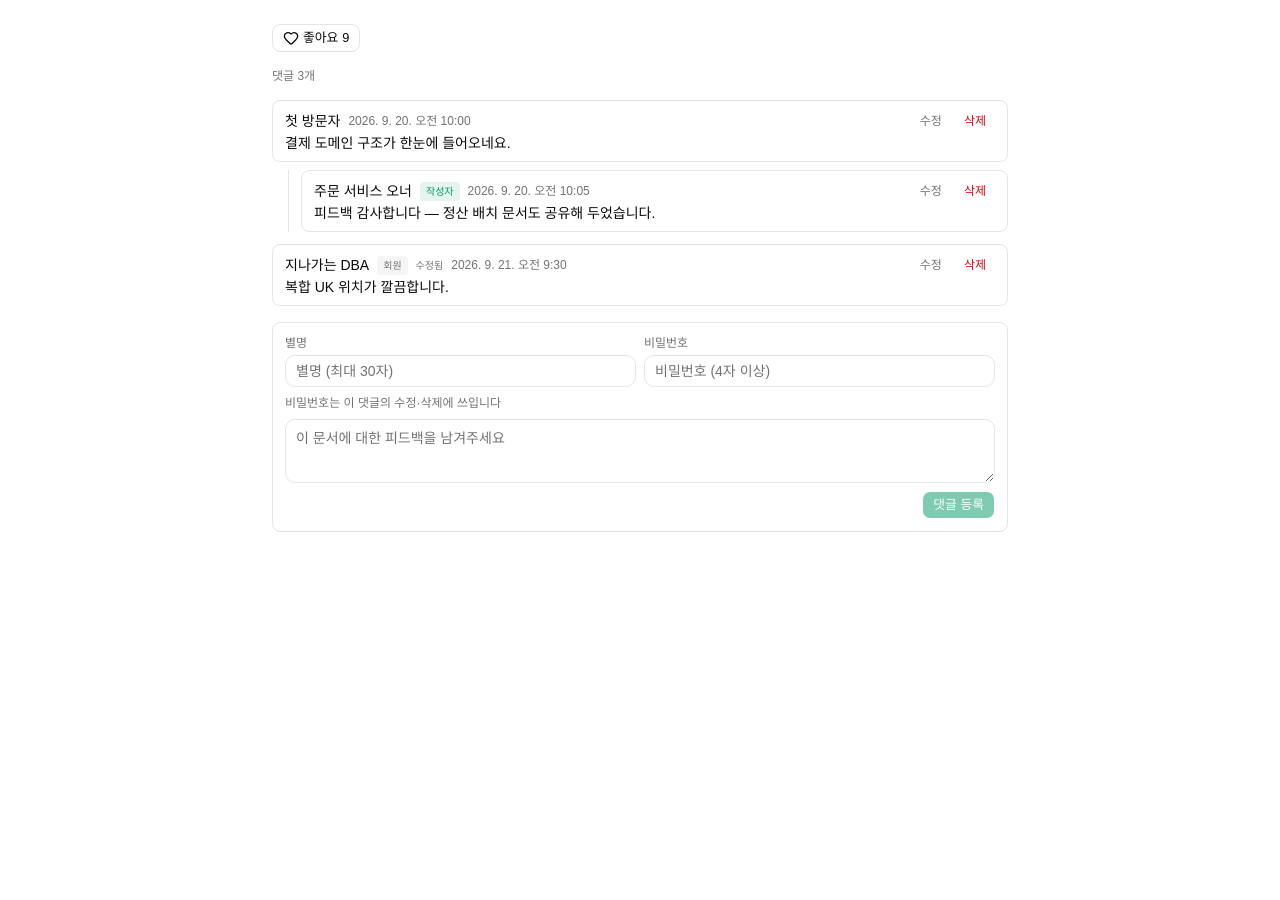
it: ShareFeedbackSection — 댓글 수정·삭제(서버 최종 판정) › toasts forbidden when the edit is rejected (403)
The image size is (1280, 900).
Expected: the list with test id "share-comment-list" is shown, [272,100,1008,306]
Click the button "수정" in the row of "2026. 9. 20. 오전 10:00": [931, 121] box [911,109,951,133]
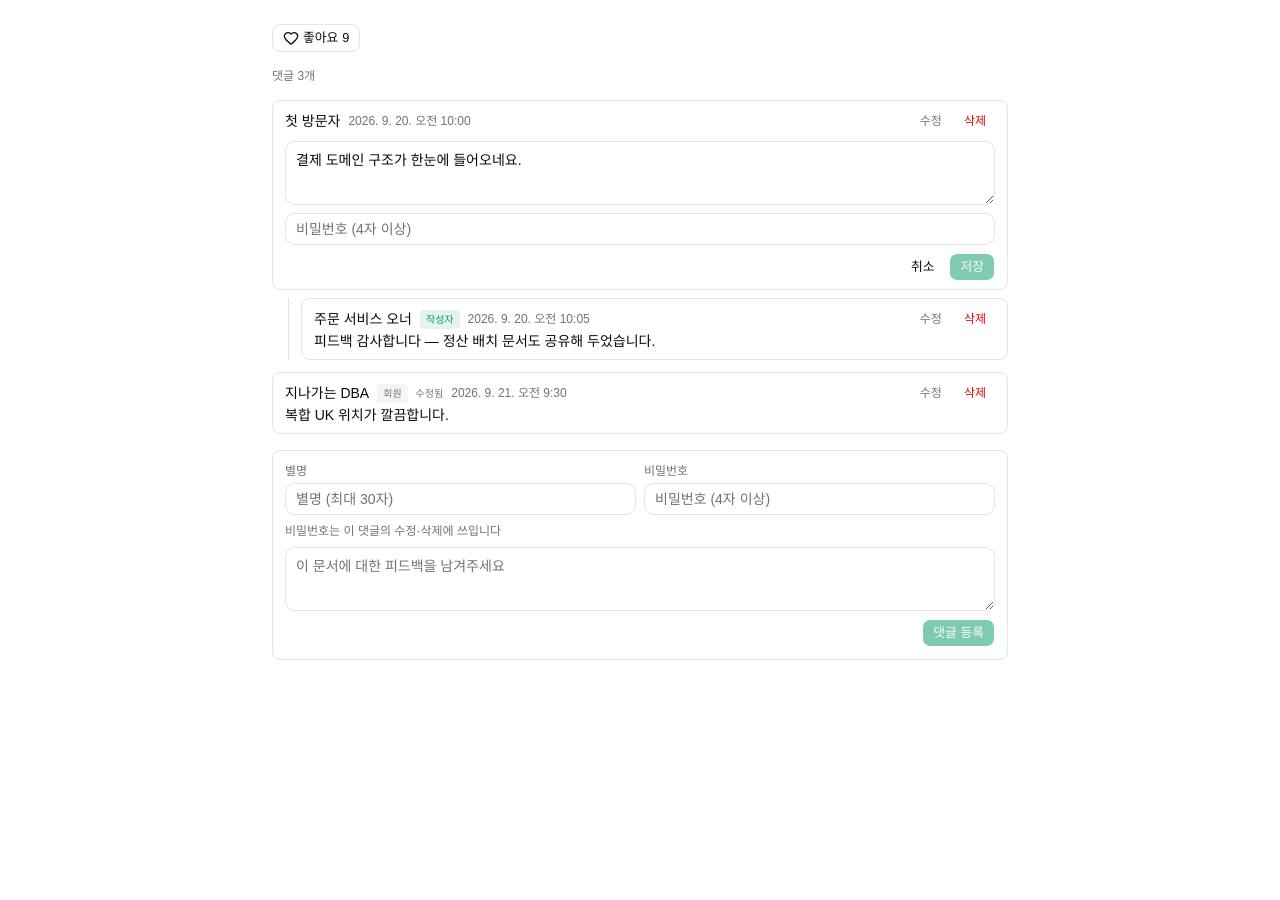
Replace the text in the text box with test id "share-comment-edit-content" with "타인 수정": [640, 173] box [285,141,995,205]
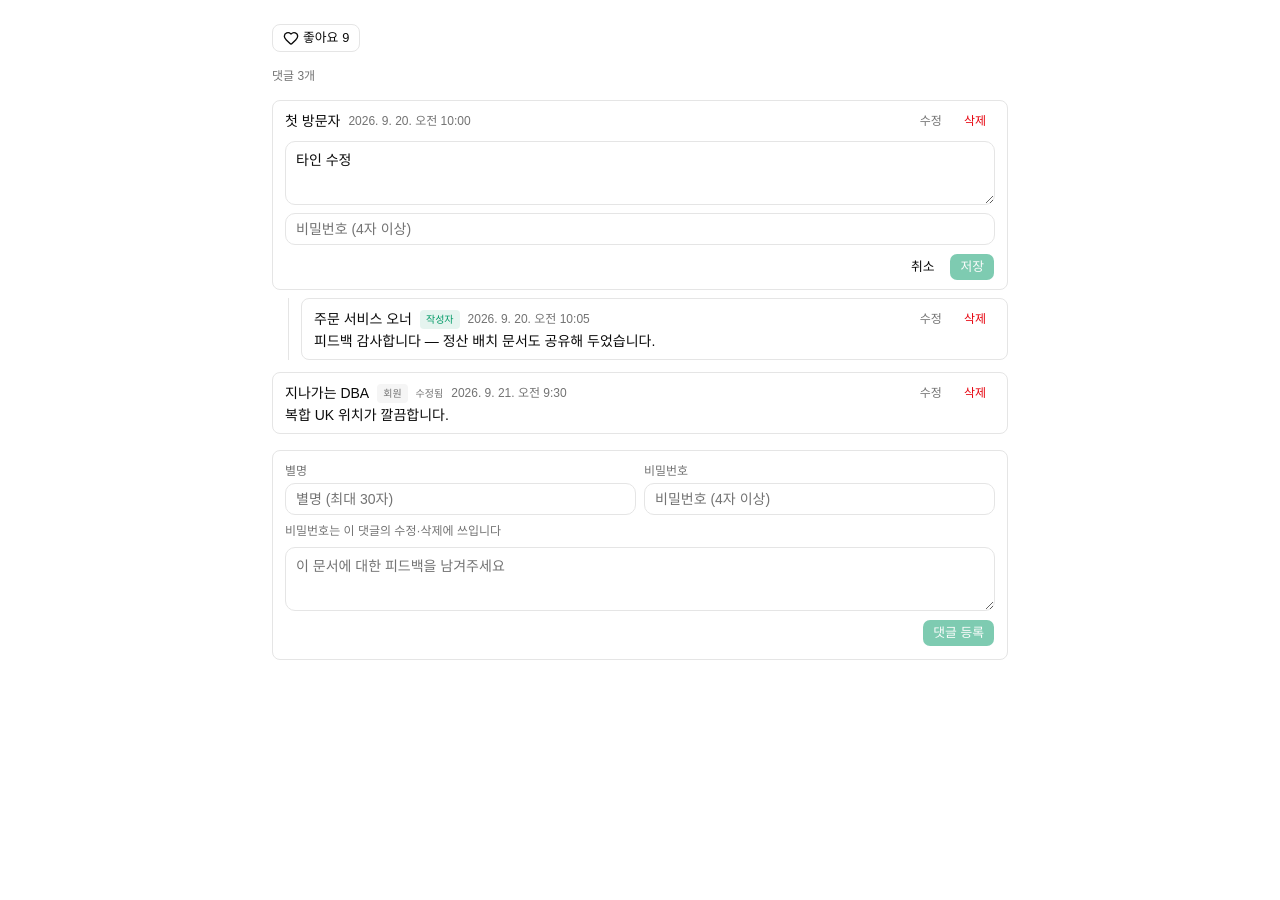
In the password field with test id "share-comment-edit-password": [640, 229] box [285,213,995,245], type "wrong-pass"
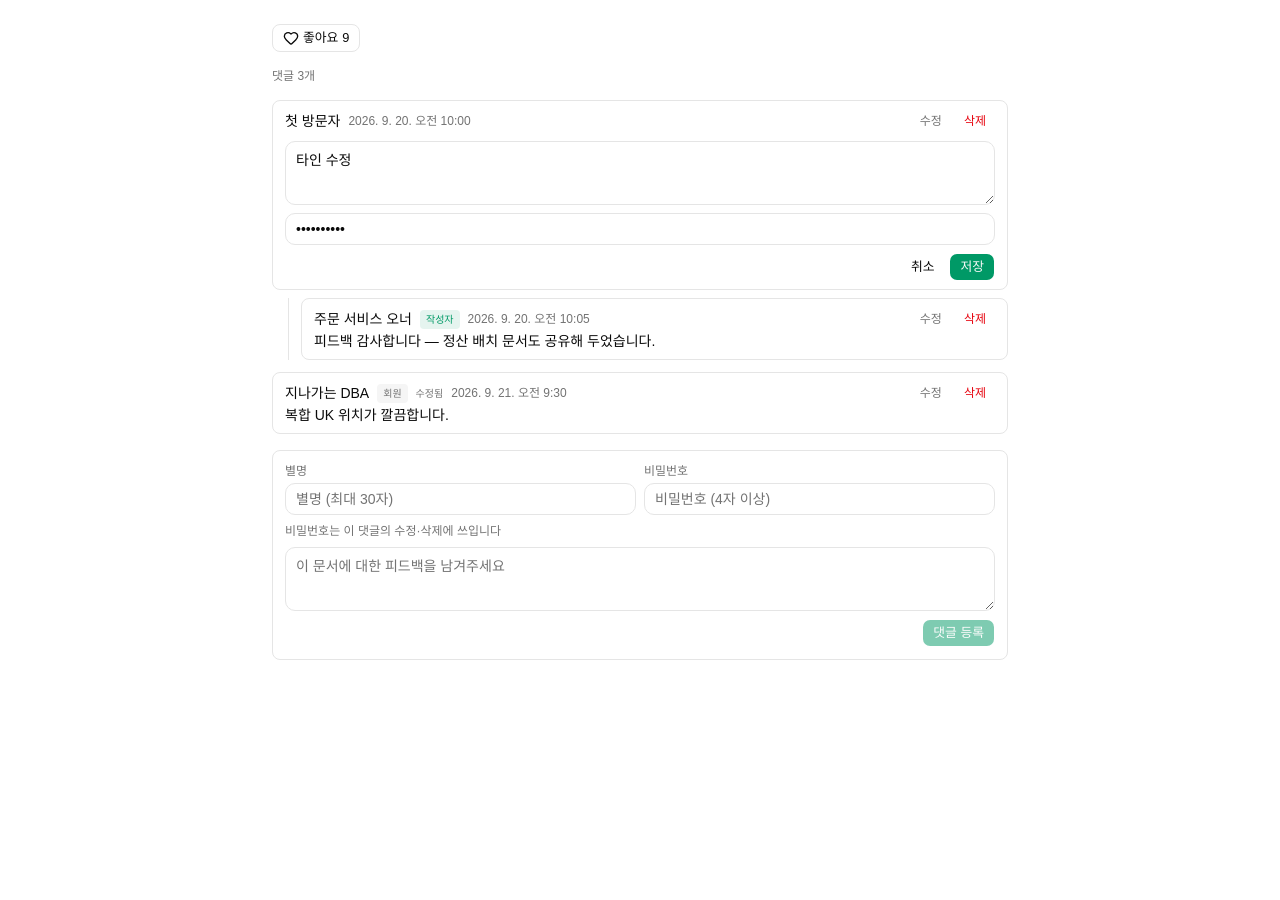
Click the button with test id "share-comment-edit-submit": [972, 267] box [950,253,995,281]
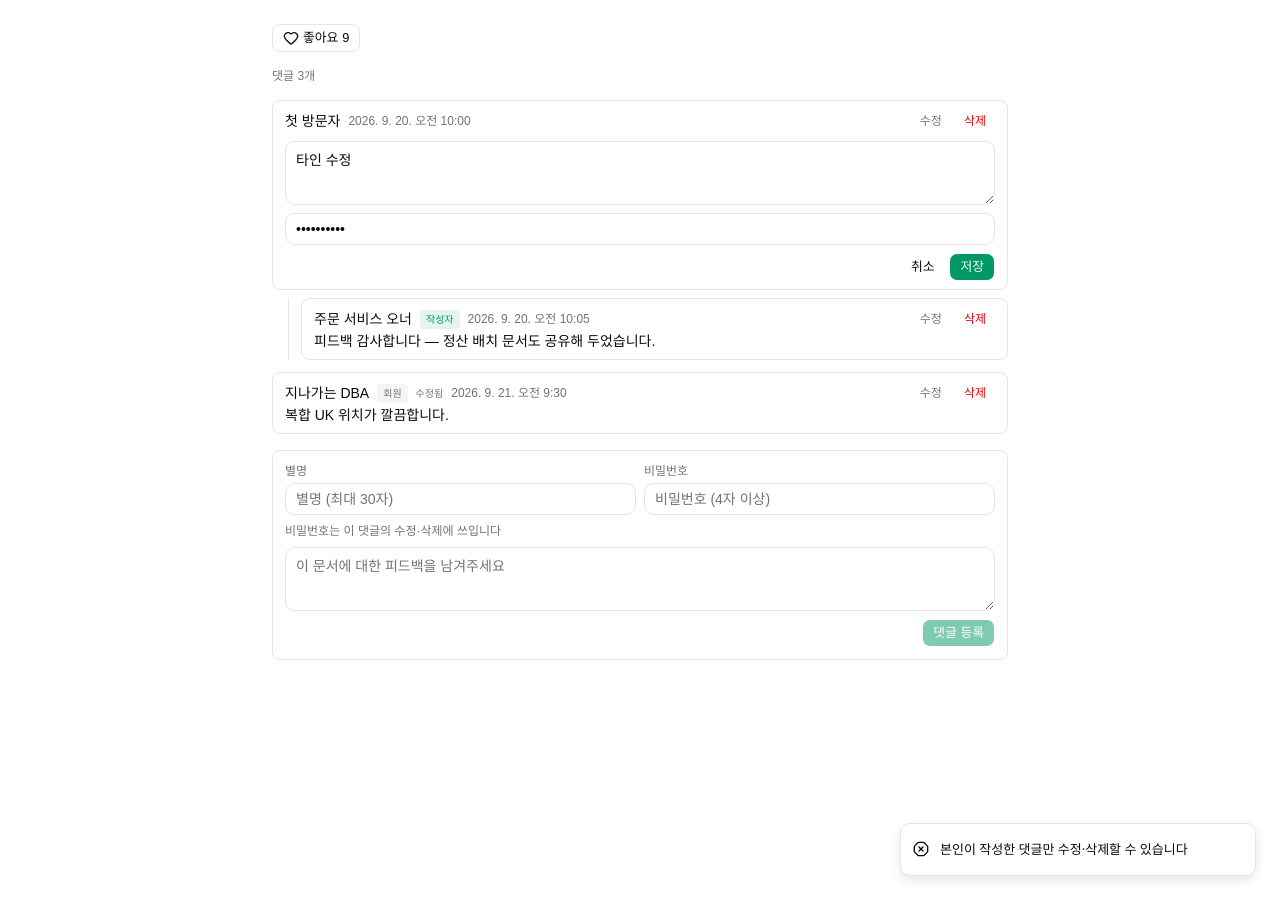
Expected: the text "본인이 작성한 댓글만 수정·삭제할 수 있습니다" is shown, [940,840,1188,859]
